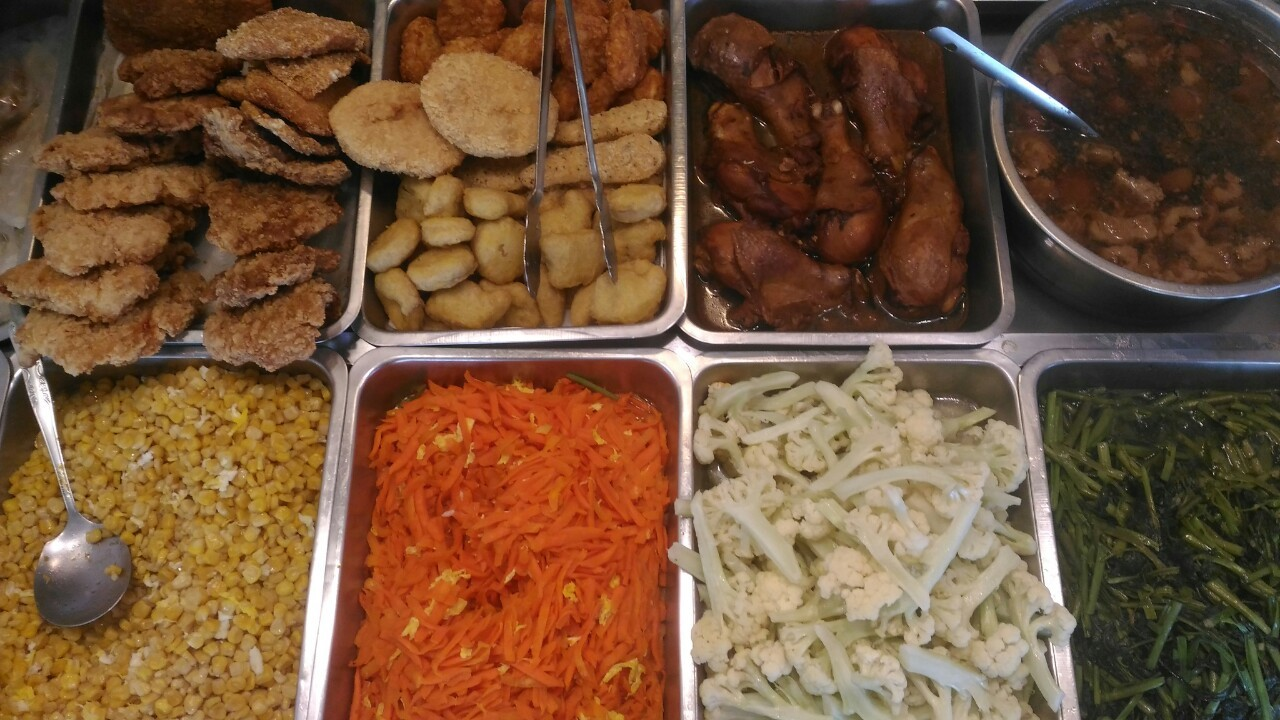carrot_eggs: (390, 390, 664, 713)
chicken_nuggets: (387, 189, 661, 330)
fried_chicken: (40, 6, 342, 361)
triangle_hash_brown: (401, 1, 661, 99)
water_spinach: (1064, 392, 1280, 712)
